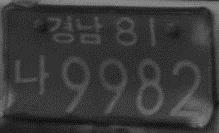1: (146, 14, 158, 49)
2: (167, 57, 203, 120)
8: (134, 57, 164, 117), (114, 15, 137, 47)
9: (96, 56, 130, 117), (58, 53, 91, 114)
경남_O: (45, 14, 104, 46)
나: (13, 52, 51, 97)
